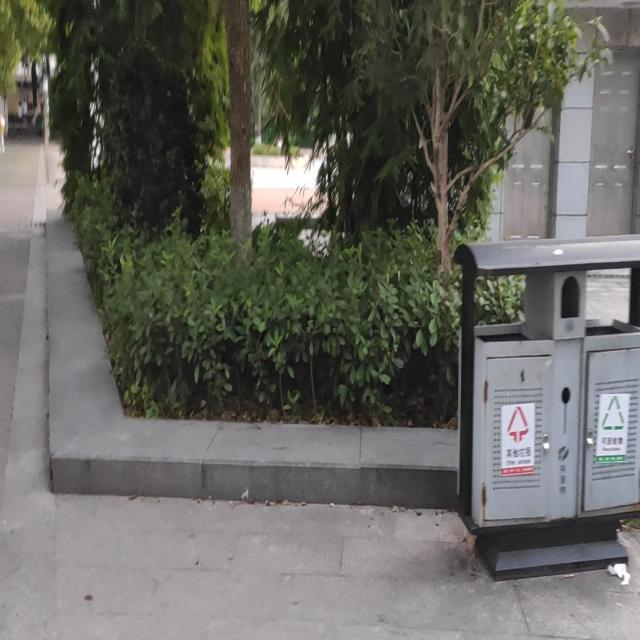ash bin: (448, 240, 640, 580)
